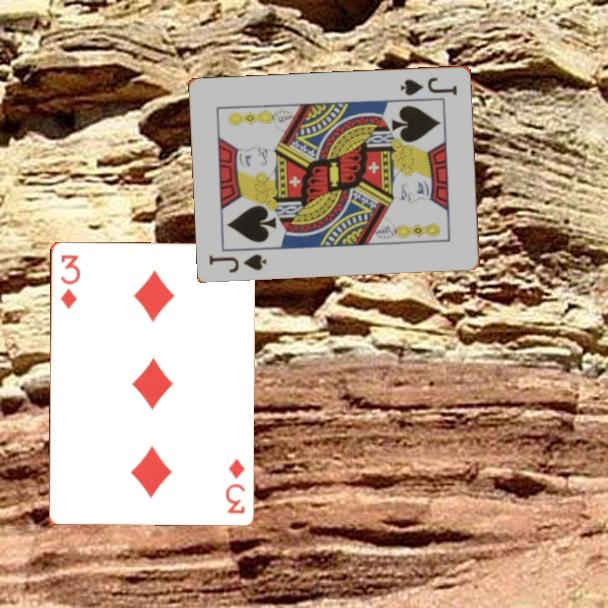d03: (221, 455, 248, 516), (56, 251, 82, 312)
s11: (397, 73, 460, 98), (206, 250, 269, 275)
